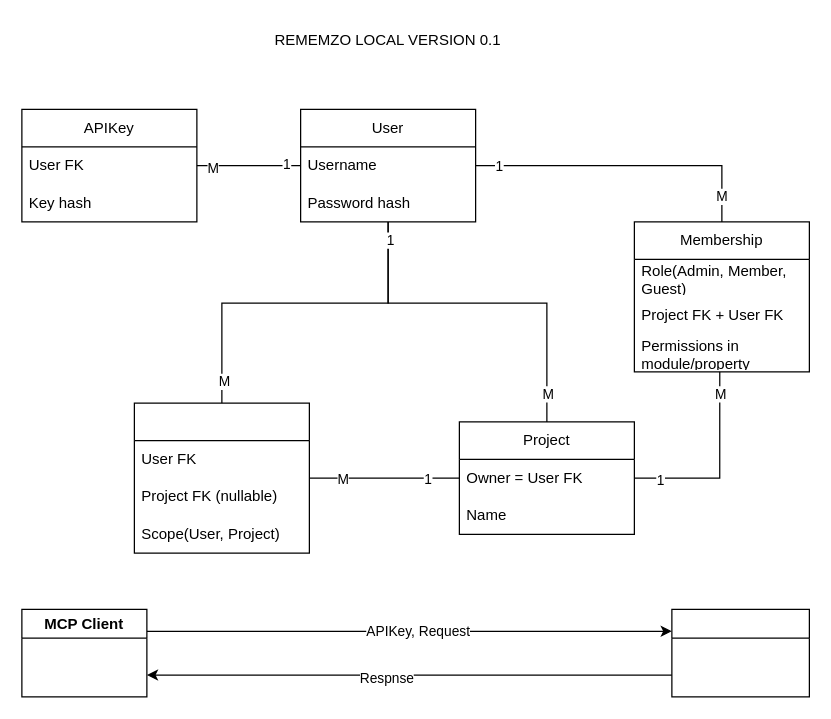
Some shapes in this 831 by 719 pixel diagram are drawn without their labels. The box of each missing label's shape, as (x1, y1, x2, y2) in pixels:
MCP Server: (671, 608, 809, 697)
Memory: (133, 402, 309, 553)
